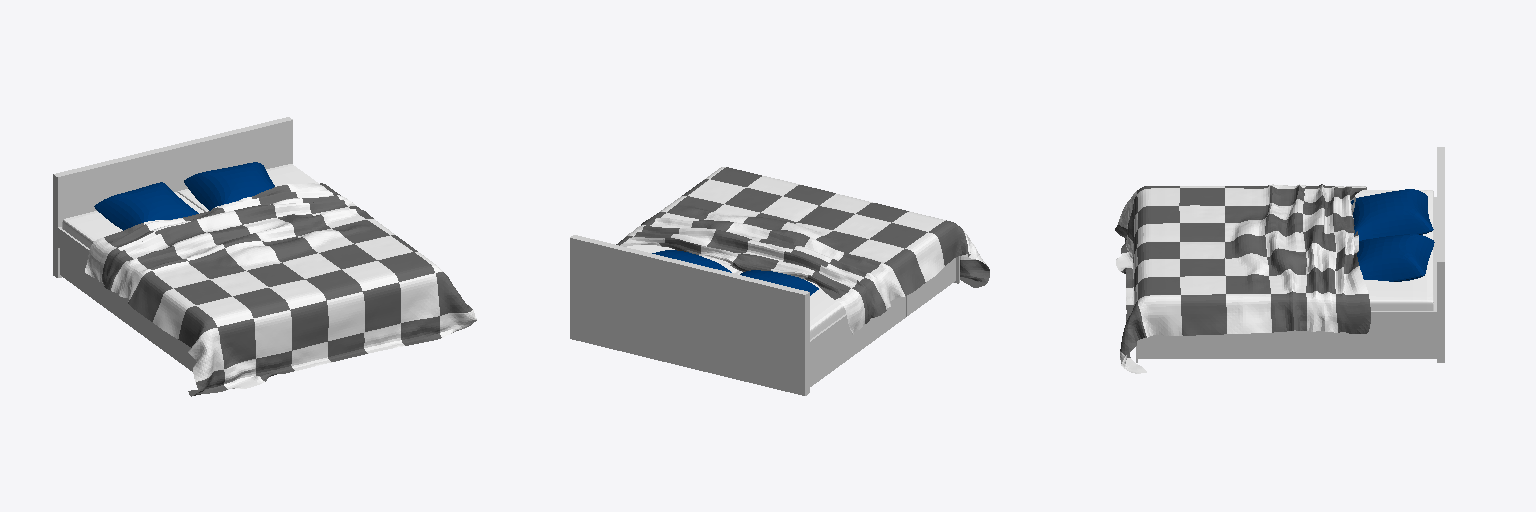
3 renders of one model, left to right at view 1: azimuth 30°, elevation 25°; view 2: azimuth 150°, elevation 25°; view 3: azimuth 270°, elevation 25°, orthographic.
Visible parts, largest first — view 1: blanket_Plane.003, bed_head_Plane.001, bed_frame_Cube, pillow_Cube.003, pillow.001_Cube.002, matress_Cube.001; view 2: blanket_Plane.003, bed_head_Plane.001, bed_frame_Cube, matress_Cube.001, pillow_Cube.003, pillow.001_Cube.002; view 3: blanket_Plane.003, bed_frame_Cube, pillow_Cube.003, pillow.001_Cube.002, matress_Cube.001, bed_head_Plane.001.
Boxes of the visible parts, x1=… form: blanket_Plane.003: x1=85, y1=183, x2=476, y2=396; bed_head_Plane.001: x1=53, y1=117, x2=292, y2=277; bed_frame_Cube: x1=58, y1=227, x2=195, y2=371; pillow_Cube.003: x1=94, y1=182, x2=198, y2=230; pillow.001_Cube.002: x1=184, y1=162, x2=274, y2=210; matress_Cube.001: x1=62, y1=164, x2=318, y2=248; blanket_Plane.003: x1=616, y1=167, x2=989, y2=334; bed_head_Plane.001: x1=570, y1=235, x2=809, y2=395; bed_frame_Cube: x1=810, y1=256, x2=959, y2=386; matress_Cube.001: x1=627, y1=245, x2=845, y2=339; pillow_Cube.003: x1=740, y1=270, x2=818, y2=295; pillow.001_Cube.002: x1=652, y1=250, x2=731, y2=272; blanket_Plane.003: x1=1115, y1=184, x2=1370, y2=373; bed_frame_Cube: x1=1136, y1=197, x2=1436, y2=362; pillow_Cube.003: x1=1351, y1=189, x2=1433, y2=240; pillow.001_Cube.002: x1=1357, y1=234, x2=1434, y2=281; matress_Cube.001: x1=1355, y1=190, x2=1433, y2=310; bed_head_Plane.001: x1=1437, y1=147, x2=1444, y2=362.
Bounding box in the file's own units: 225 × 76.5 × 226.
Materials: 5 (1 with a texture image).